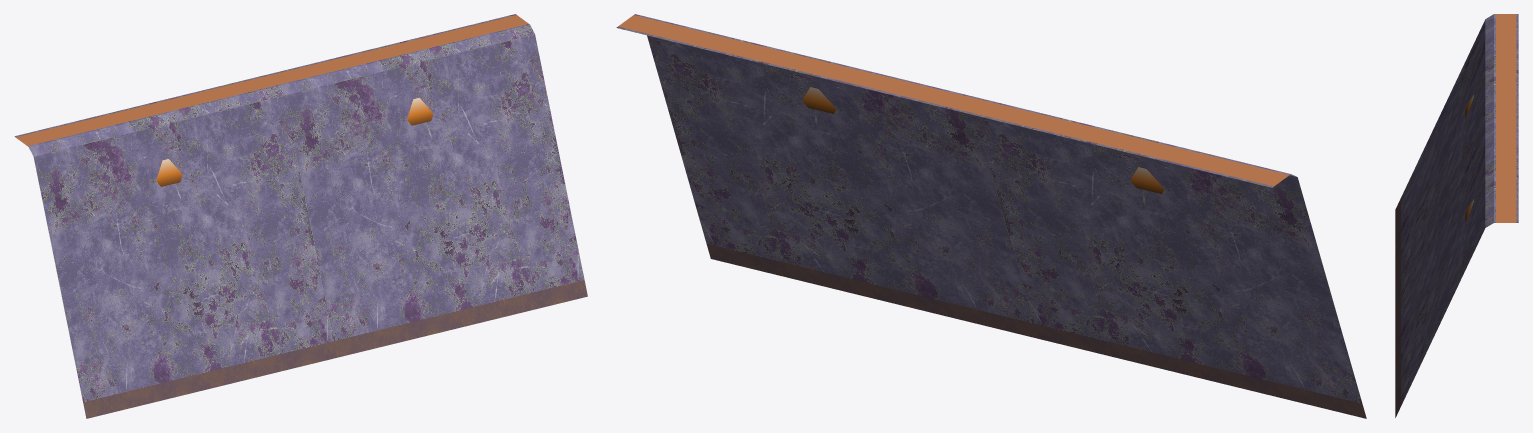
File: TempleBase_Art.glb
The picture shows the model from 3 angles, left to right: view 1: azimuth 30°, elevation 25°; view 2: azimuth 150°, elevation 25°; view 3: azimuth 270°, elevation 25°; orthographic projection. The views are drawn at different scales.
Visible parts, largest first — view 1: TempleBase_Art; view 2: TempleBase_Art; view 3: TempleBase_Art.
Boxes of the visible parts, x1,y1,x2,y2 form: TempleBase_Art: (14, 14, 587, 418); TempleBase_Art: (616, 14, 1366, 418); TempleBase_Art: (1395, 14, 1518, 417).
Size of the model in its own units: 8 by 3.5 by 2.
Materials: 1 (1 with a texture image).
